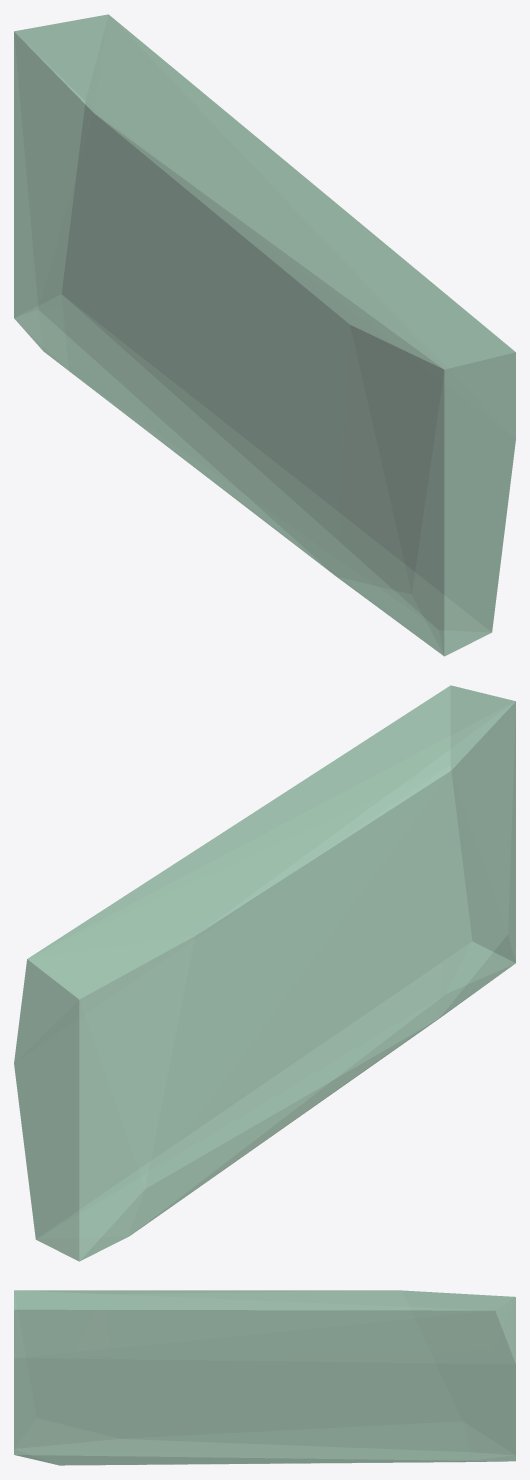
3 views of the same model, one above another, from view 1: azimuth 30°, elevation 25°; view 2: azimuth 150°, elevation 25°; view 3: azimuth 270°, elevation 25° (orthographic). The views are drawn at different scales.
Parts seen in each view (by area): view 1: Shape_IndexedFaceSet.018_Shape_IndexedFaceSet.11162; view 2: Shape_IndexedFaceSet.018_Shape_IndexedFaceSet.11162; view 3: Shape_IndexedFaceSet.018_Shape_IndexedFaceSet.11162.
Part boxes in pixels (x1,y1,x2,y2): Shape_IndexedFaceSet.018_Shape_IndexedFaceSet.11162: [14, 14, 515, 656]; Shape_IndexedFaceSet.018_Shape_IndexedFaceSet.11162: [14, 685, 515, 1261]; Shape_IndexedFaceSet.018_Shape_IndexedFaceSet.11162: [14, 1290, 515, 1465].
Size of the model in its own units: 0.0308 by 0.082 by 0.2167.
